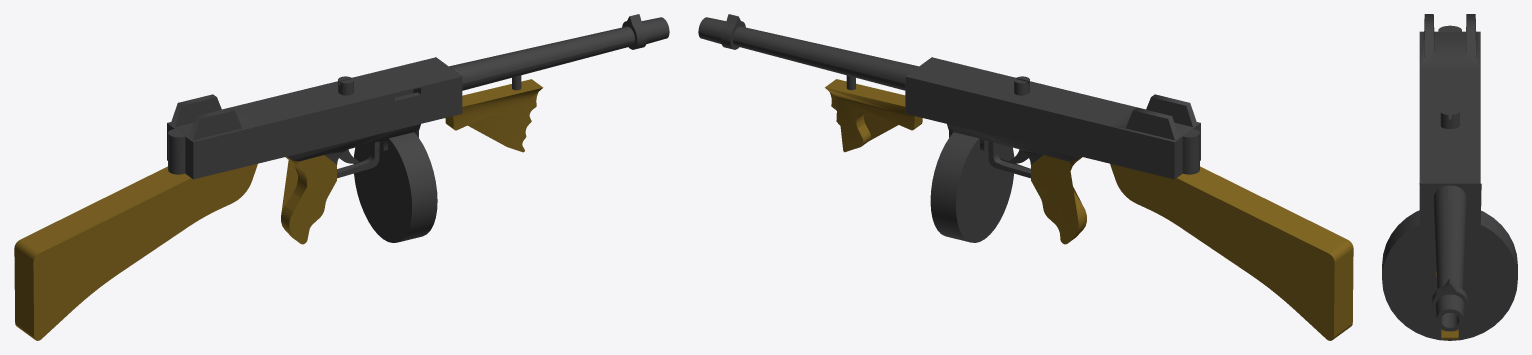
Rendered from Tommy_gun_samotny2.fbx.
3 views of the same model, side by side, from view 1: azimuth 30°, elevation 25°; view 2: azimuth 150°, elevation 25°; view 3: azimuth 270°, elevation 25° (orthographic). The views are drawn at different scales.
Parts seen in each view (by area): view 1: TommyGun, TommyGun_drum, TommyGun_grip; view 2: TommyGun, TommyGun_drum, TommyGun_grip; view 3: TommyGun, TommyGun_drum, TommyGun_grip.
Part boxes in pixels (<box>): TommyGun: <box>14,14,669,340</box>; TommyGun_drum: <box>354,132,437,242</box>; TommyGun_grip: <box>445,75,543,152</box>; TommyGun: <box>698,14,1353,340</box>; TommyGun_drum: <box>930,132,1014,242</box>; TommyGun_grip: <box>825,75,922,152</box>; TommyGun: <box>1419,14,1481,331</box>; TommyGun_drum: <box>1382,210,1517,340</box>; TommyGun_grip: <box>1436,271,1458,339</box>.
Size of the model in its own units: 126 by 34.59 by 20.
